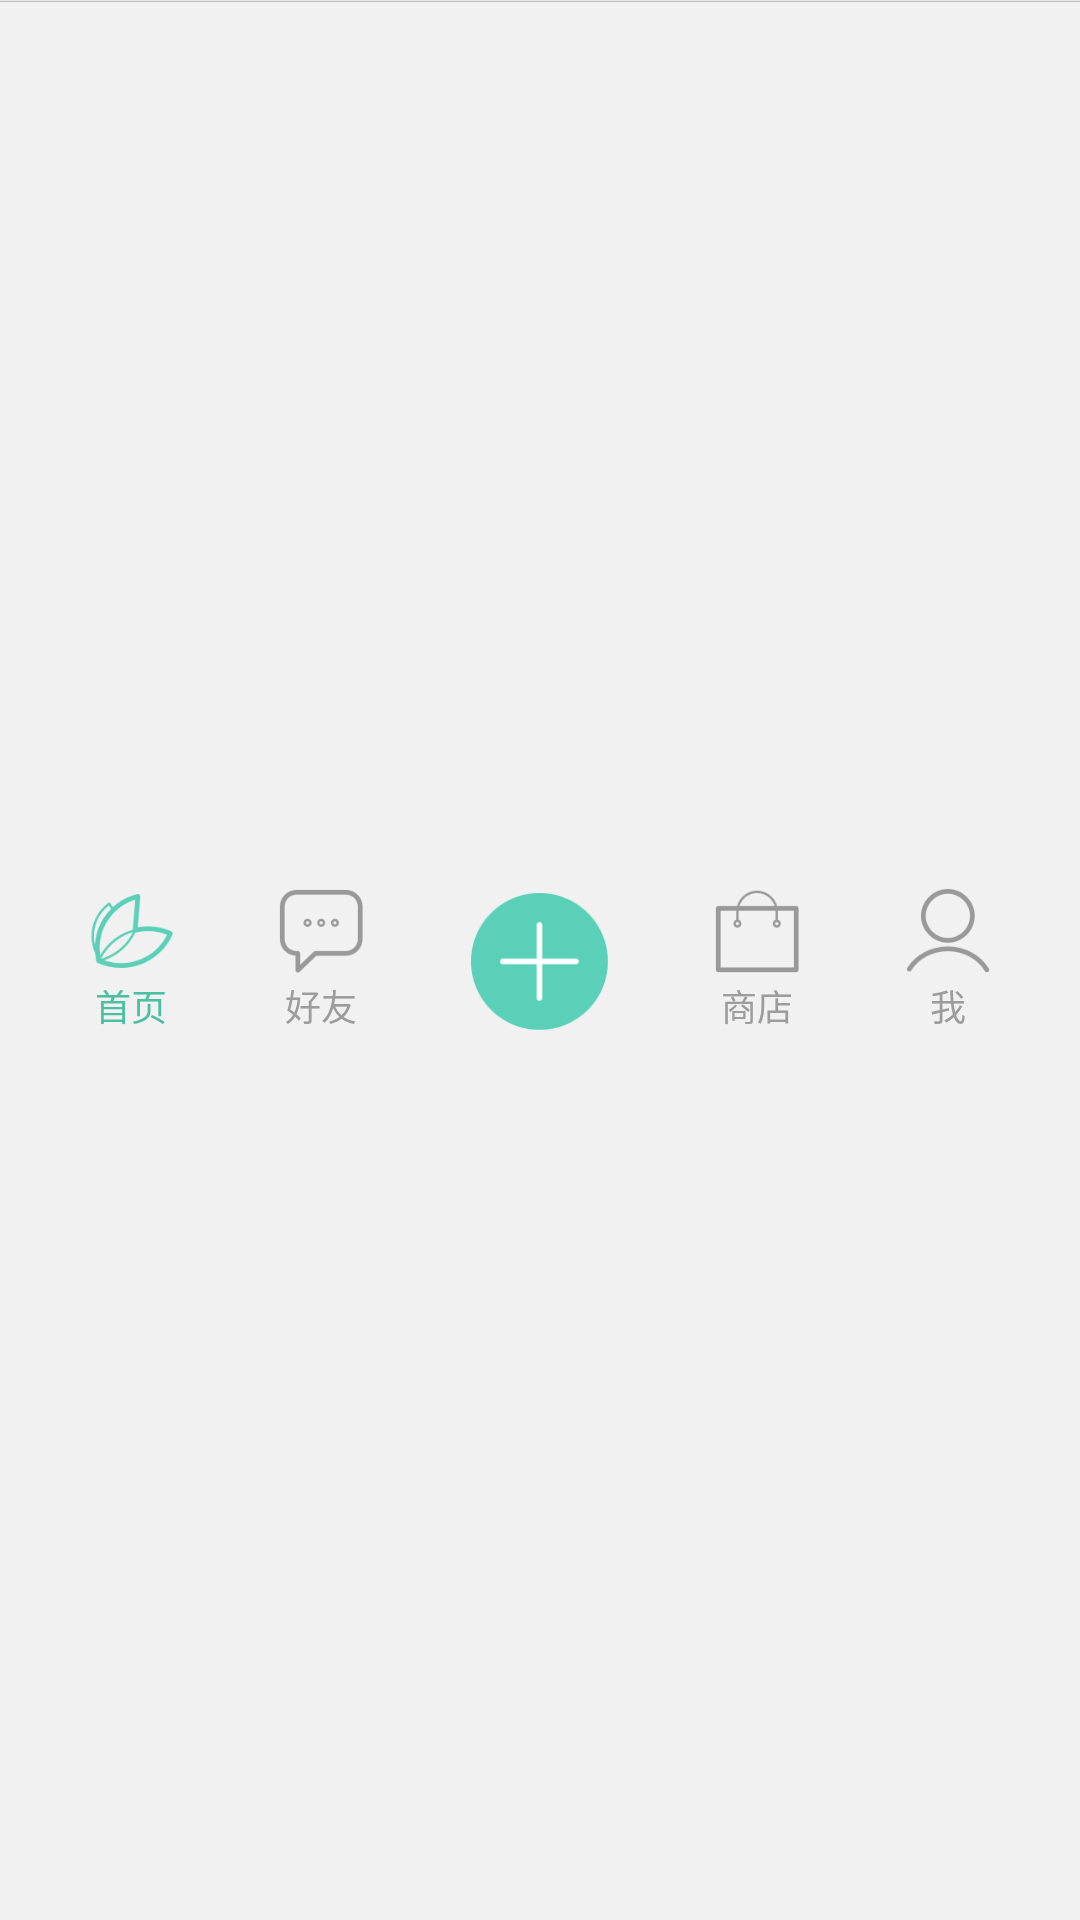

Icons on this 1080px x 1920px Android screen, each with the point to tap as point (x, y):
navigation center: point (539, 961)
